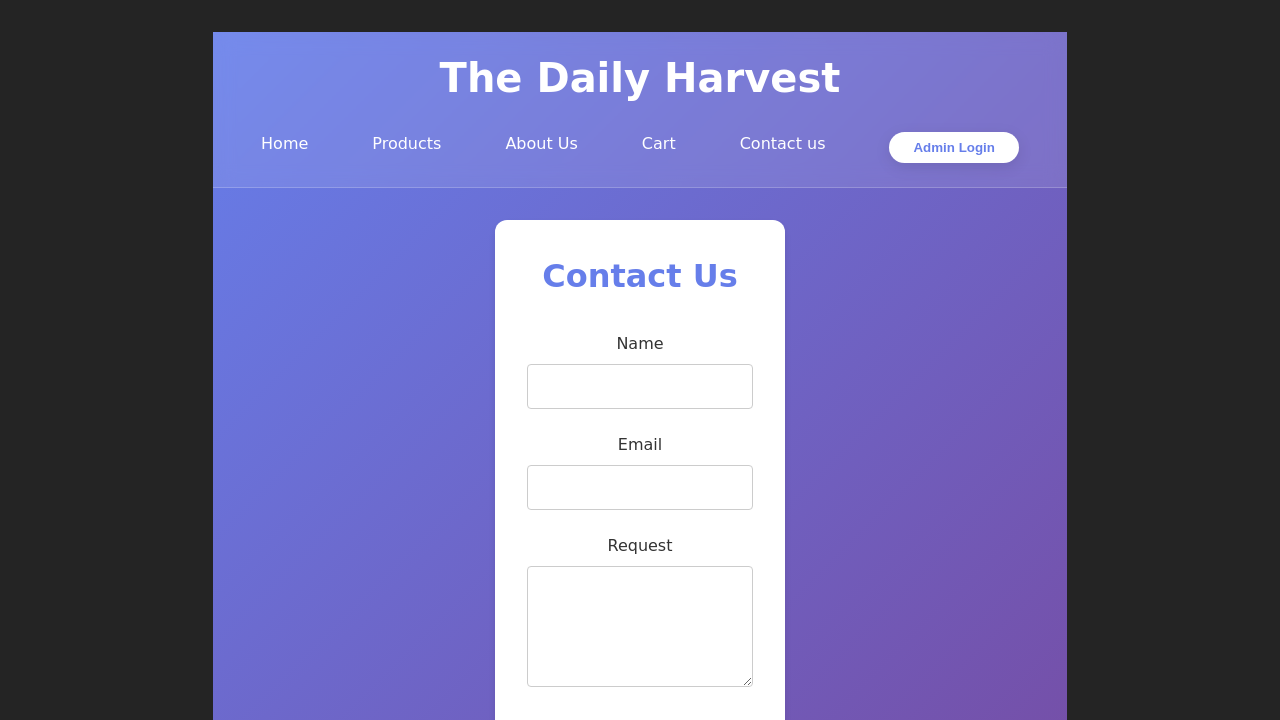
ContactPage › should show modal with thank you message when form is submitted
Type "John Doe" into the field labelled "Name" at (640, 386), box 527,364 -> 753,409
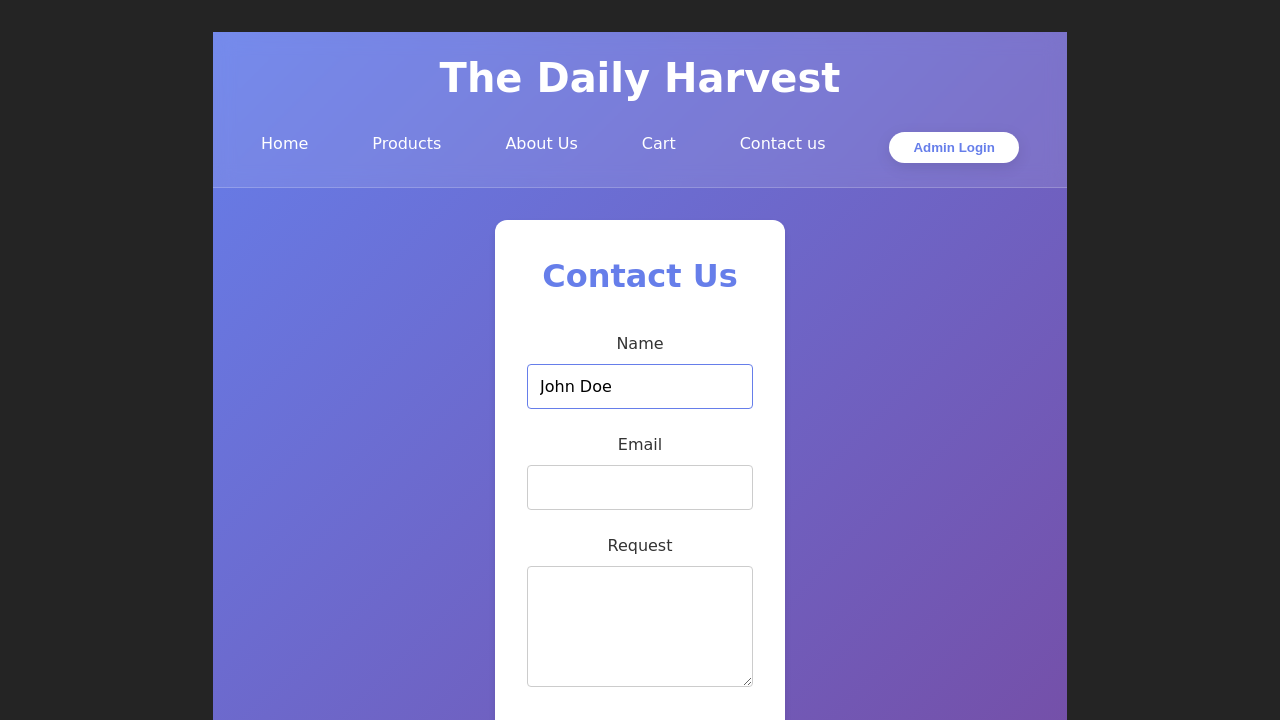
Type "john@example.com" into the field labelled "Email" at (640, 488), box 527,465 -> 753,510
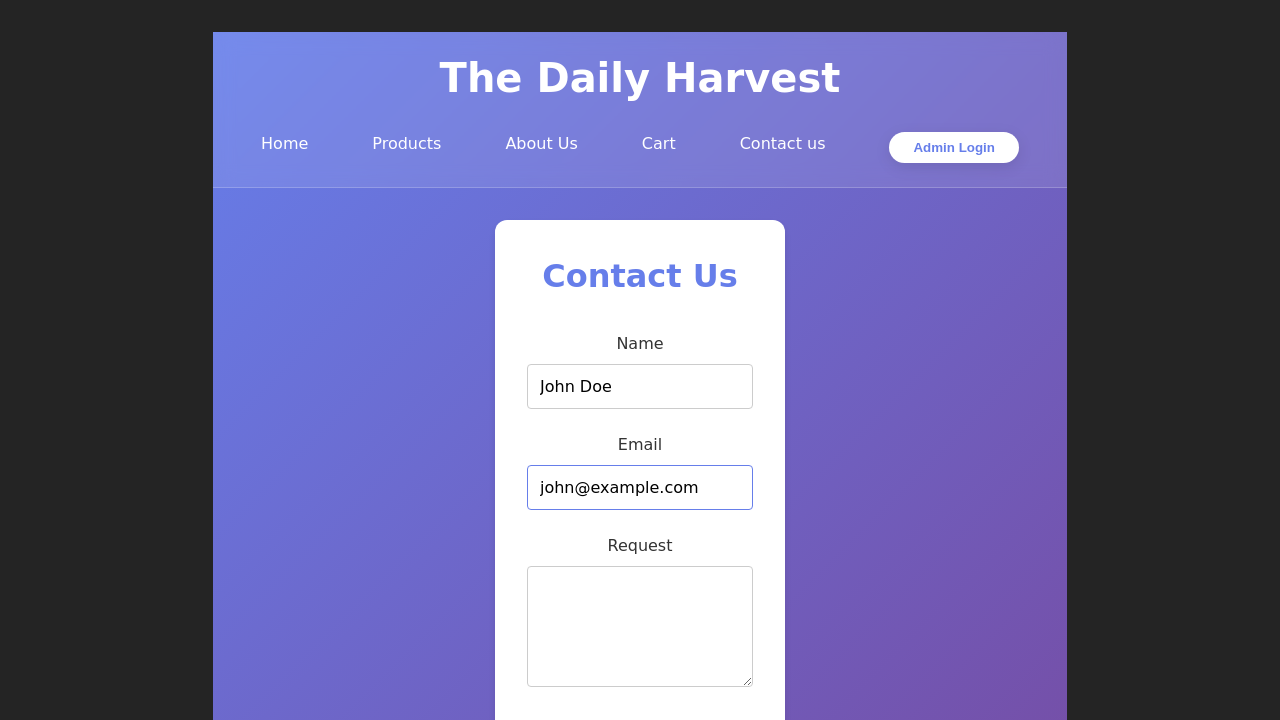
Type "This is my request" into the text box labelled "Request" at (640, 626), box 527,566 -> 753,687
(page scrolled)
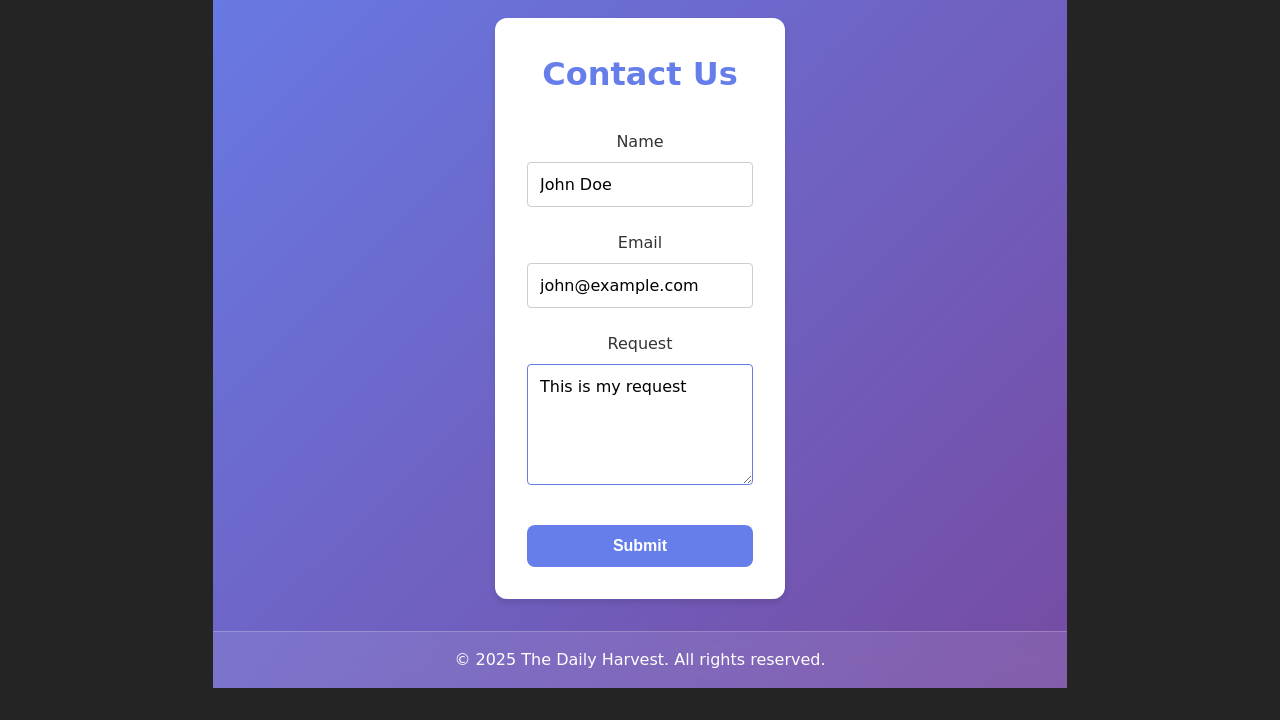
Click the button "Submit" at (640, 546), box 527,525 -> 753,567
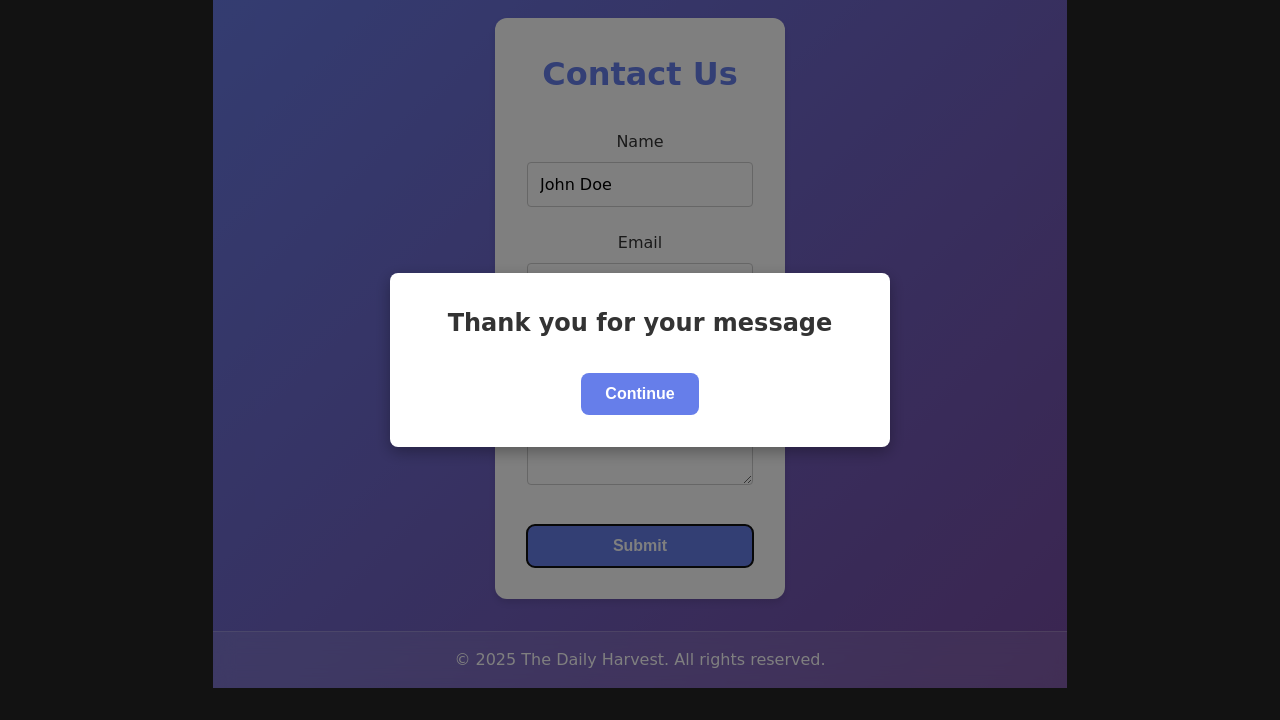
Result: the heading "Thank you for your message" is shown at 422,305 -> 858,341
